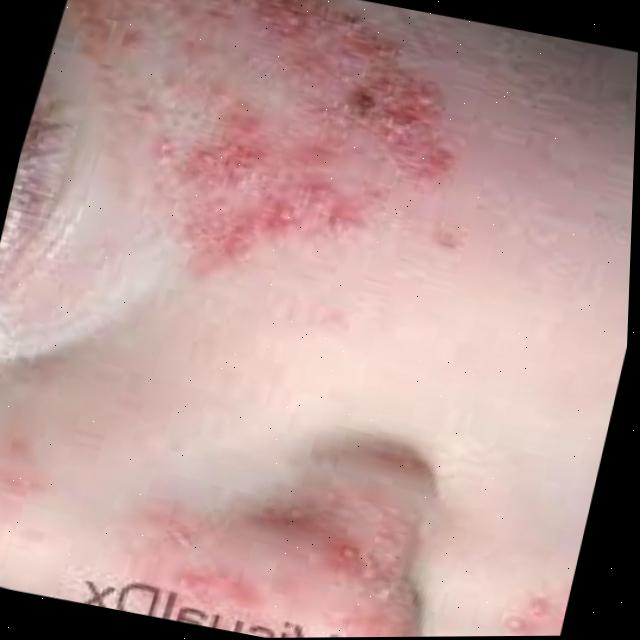Eczema: (45, 0, 472, 302), (130, 499, 379, 639)
